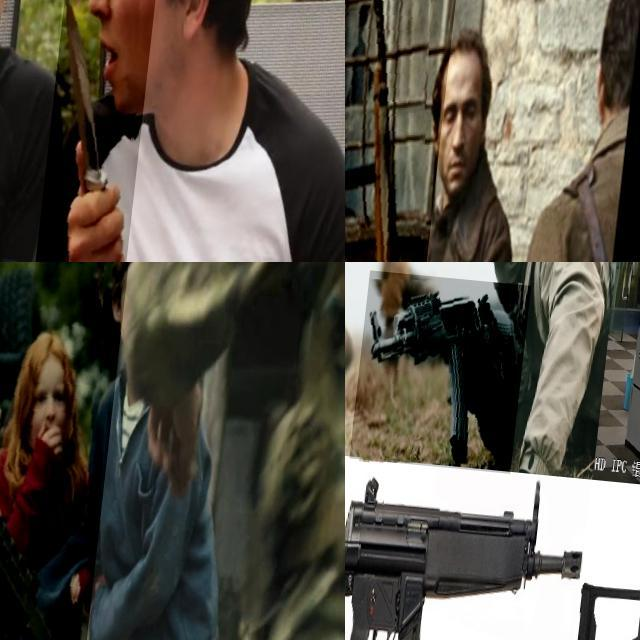-: (42, 0, 161, 262)
gun-knife-thesis - v11 Yolov5 augmented: (0, 262, 162, 640), (345, 451, 596, 640), (357, 269, 534, 469), (345, 0, 466, 262)
